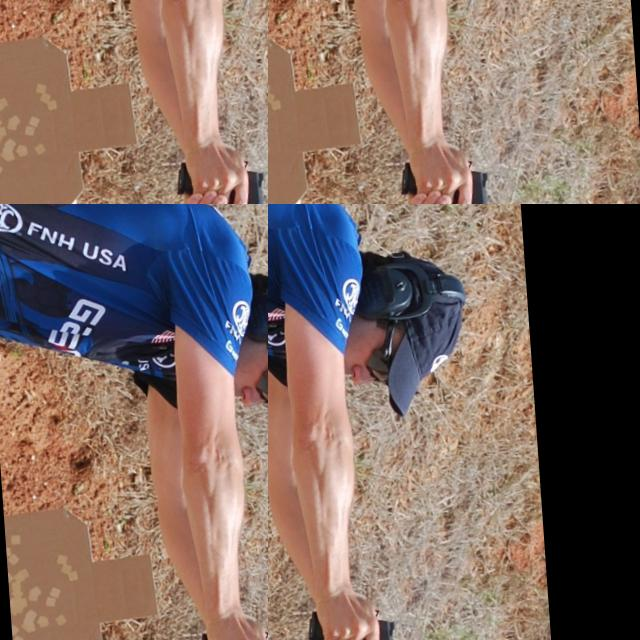handgun: (0, 204, 268, 515), (224, 0, 268, 109), (349, 603, 404, 640), (386, 171, 447, 204)
